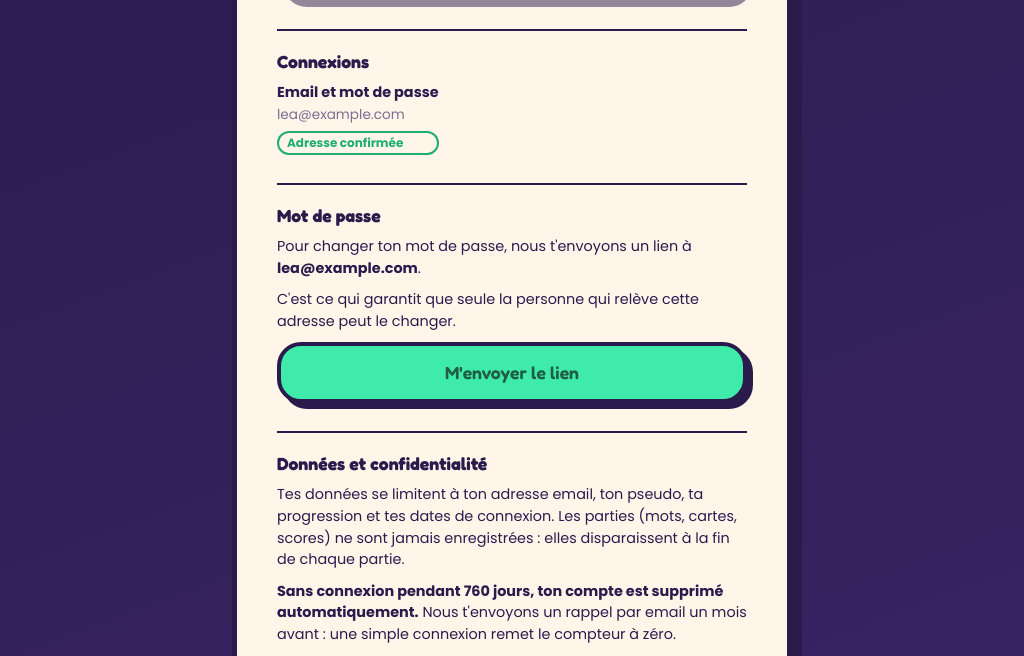
Test: AccountScreen › changement de mot de passe › reports a send failure
(page scrolled)
Click the button "M'envoyer le lien".
click(512, 373)  # box [277,342,747,403]
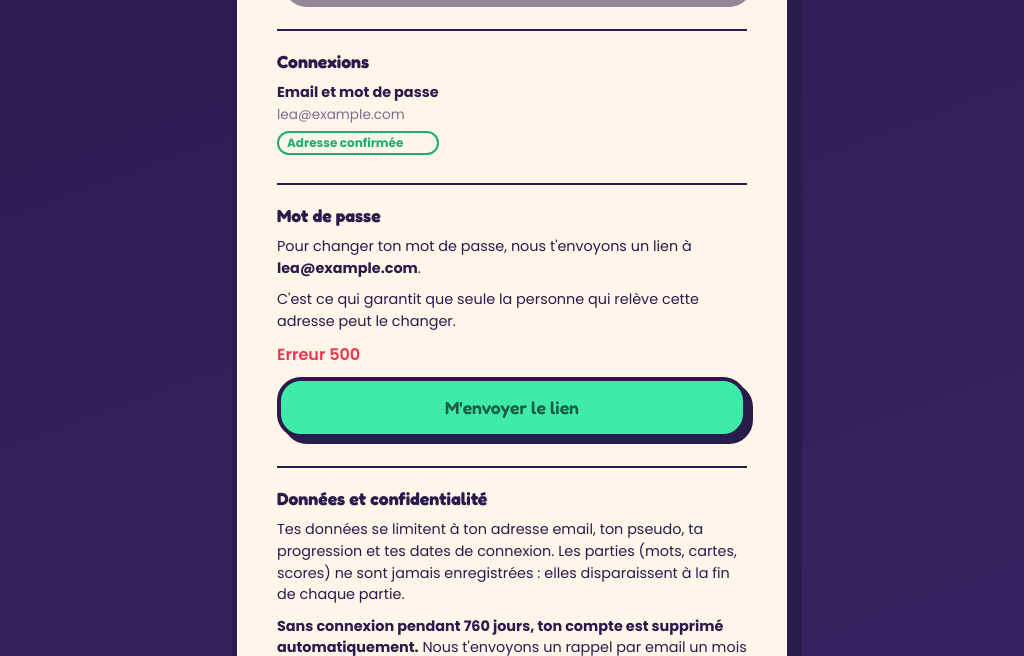
Now the text "Erreur 500" is shown, box [277,343,360,366]
